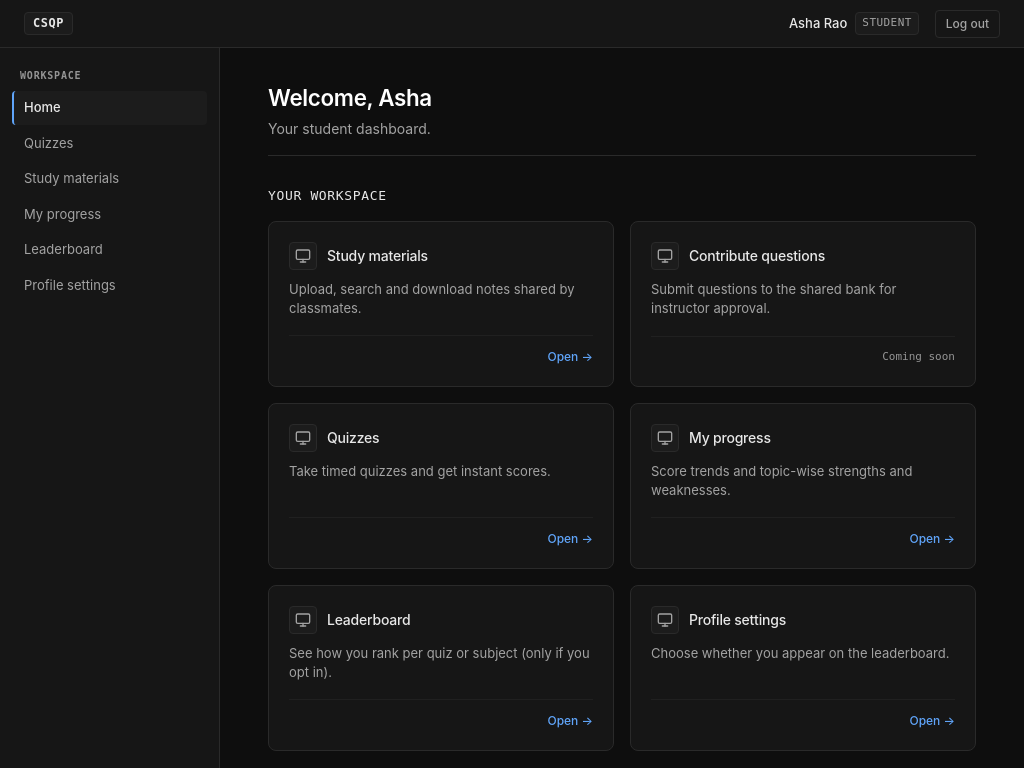
Test: App shell navigation › logs out from the top bar
What coordinates should you click on to do the following:
click the button "Log out"
I would click on:
 (967, 24)
Its box is [935,10,1000,38].
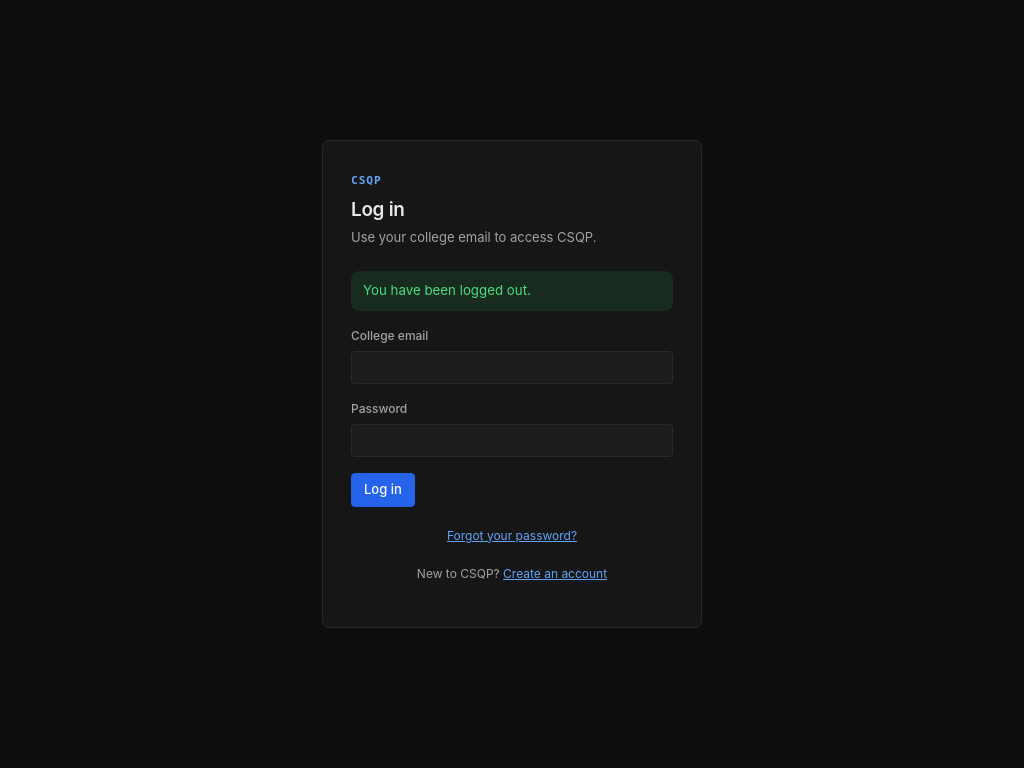
Expected: the heading "Log in" is shown, [351,198,405,221]
